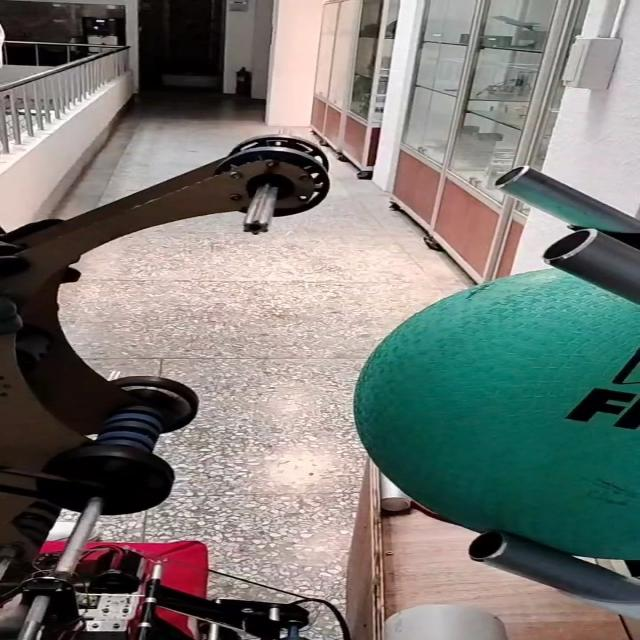ALGAE: (347, 264, 640, 560)
CORAL: (368, 598, 506, 640)
